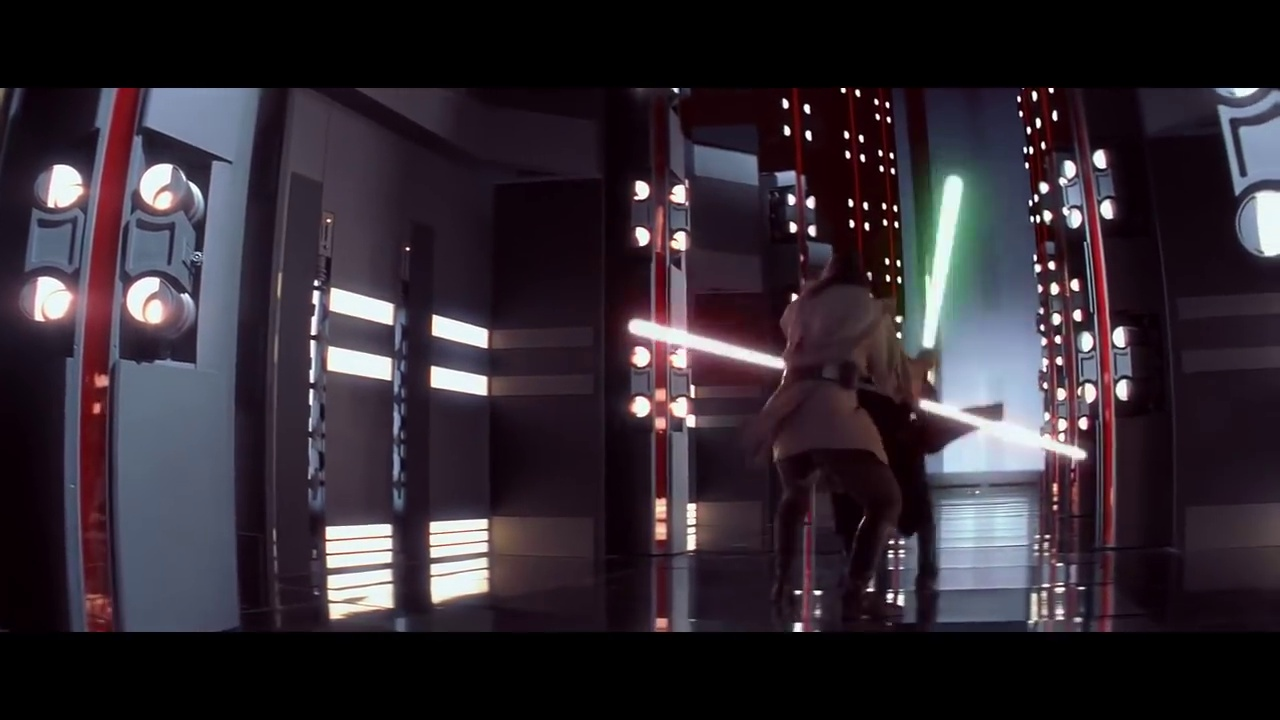lightsaber: (923, 391, 1089, 463), (917, 170, 970, 359), (623, 317, 788, 377)
